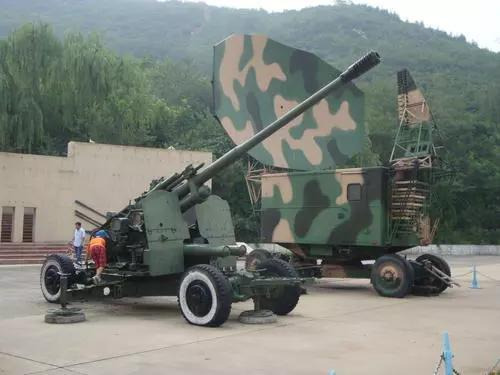MIL_SPG: (41, 52, 380, 326)
